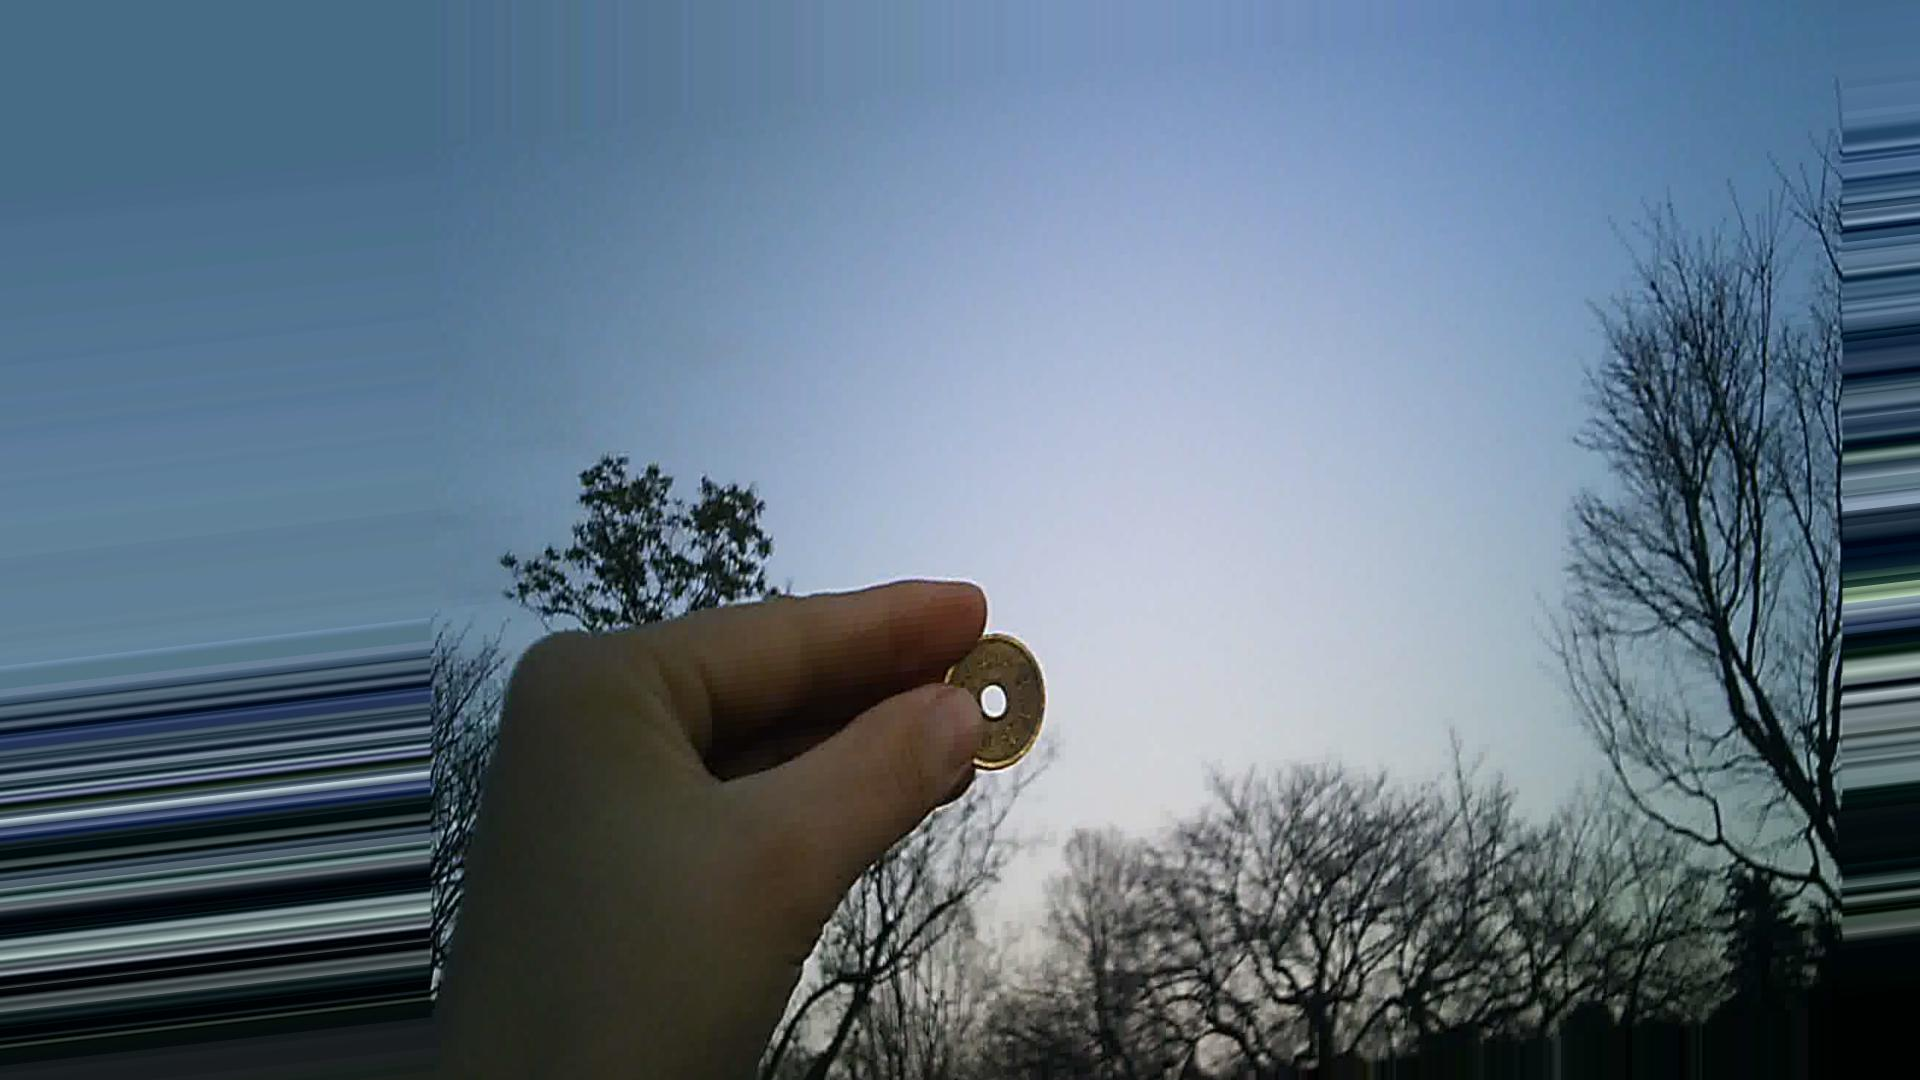5 Yen: (927, 618, 1044, 766)
